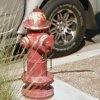Hydrant: (10, 4, 63, 100)
